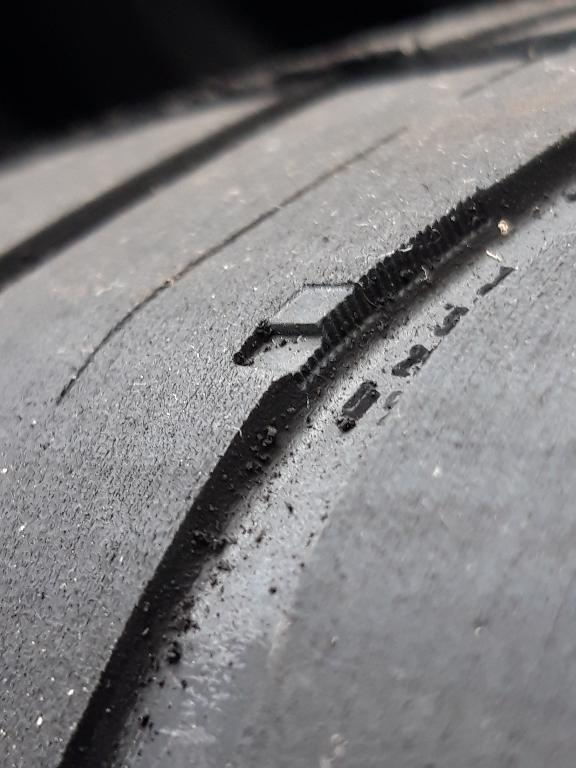temoin:25: (220, 271, 383, 398)
